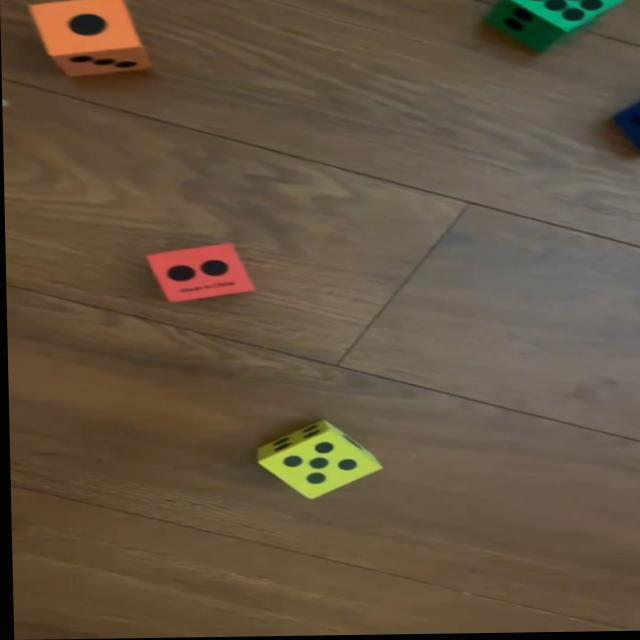cube: (485, 0, 628, 54), (144, 243, 254, 302), (620, 102, 640, 155)
